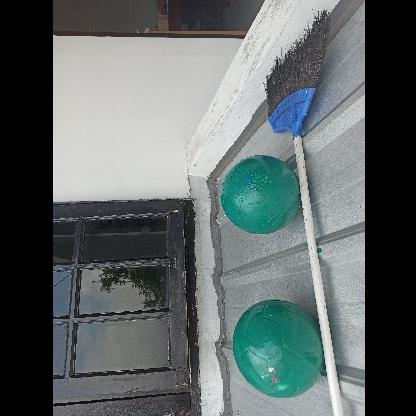green_ball: (230, 300, 328, 400), (217, 156, 297, 236)
